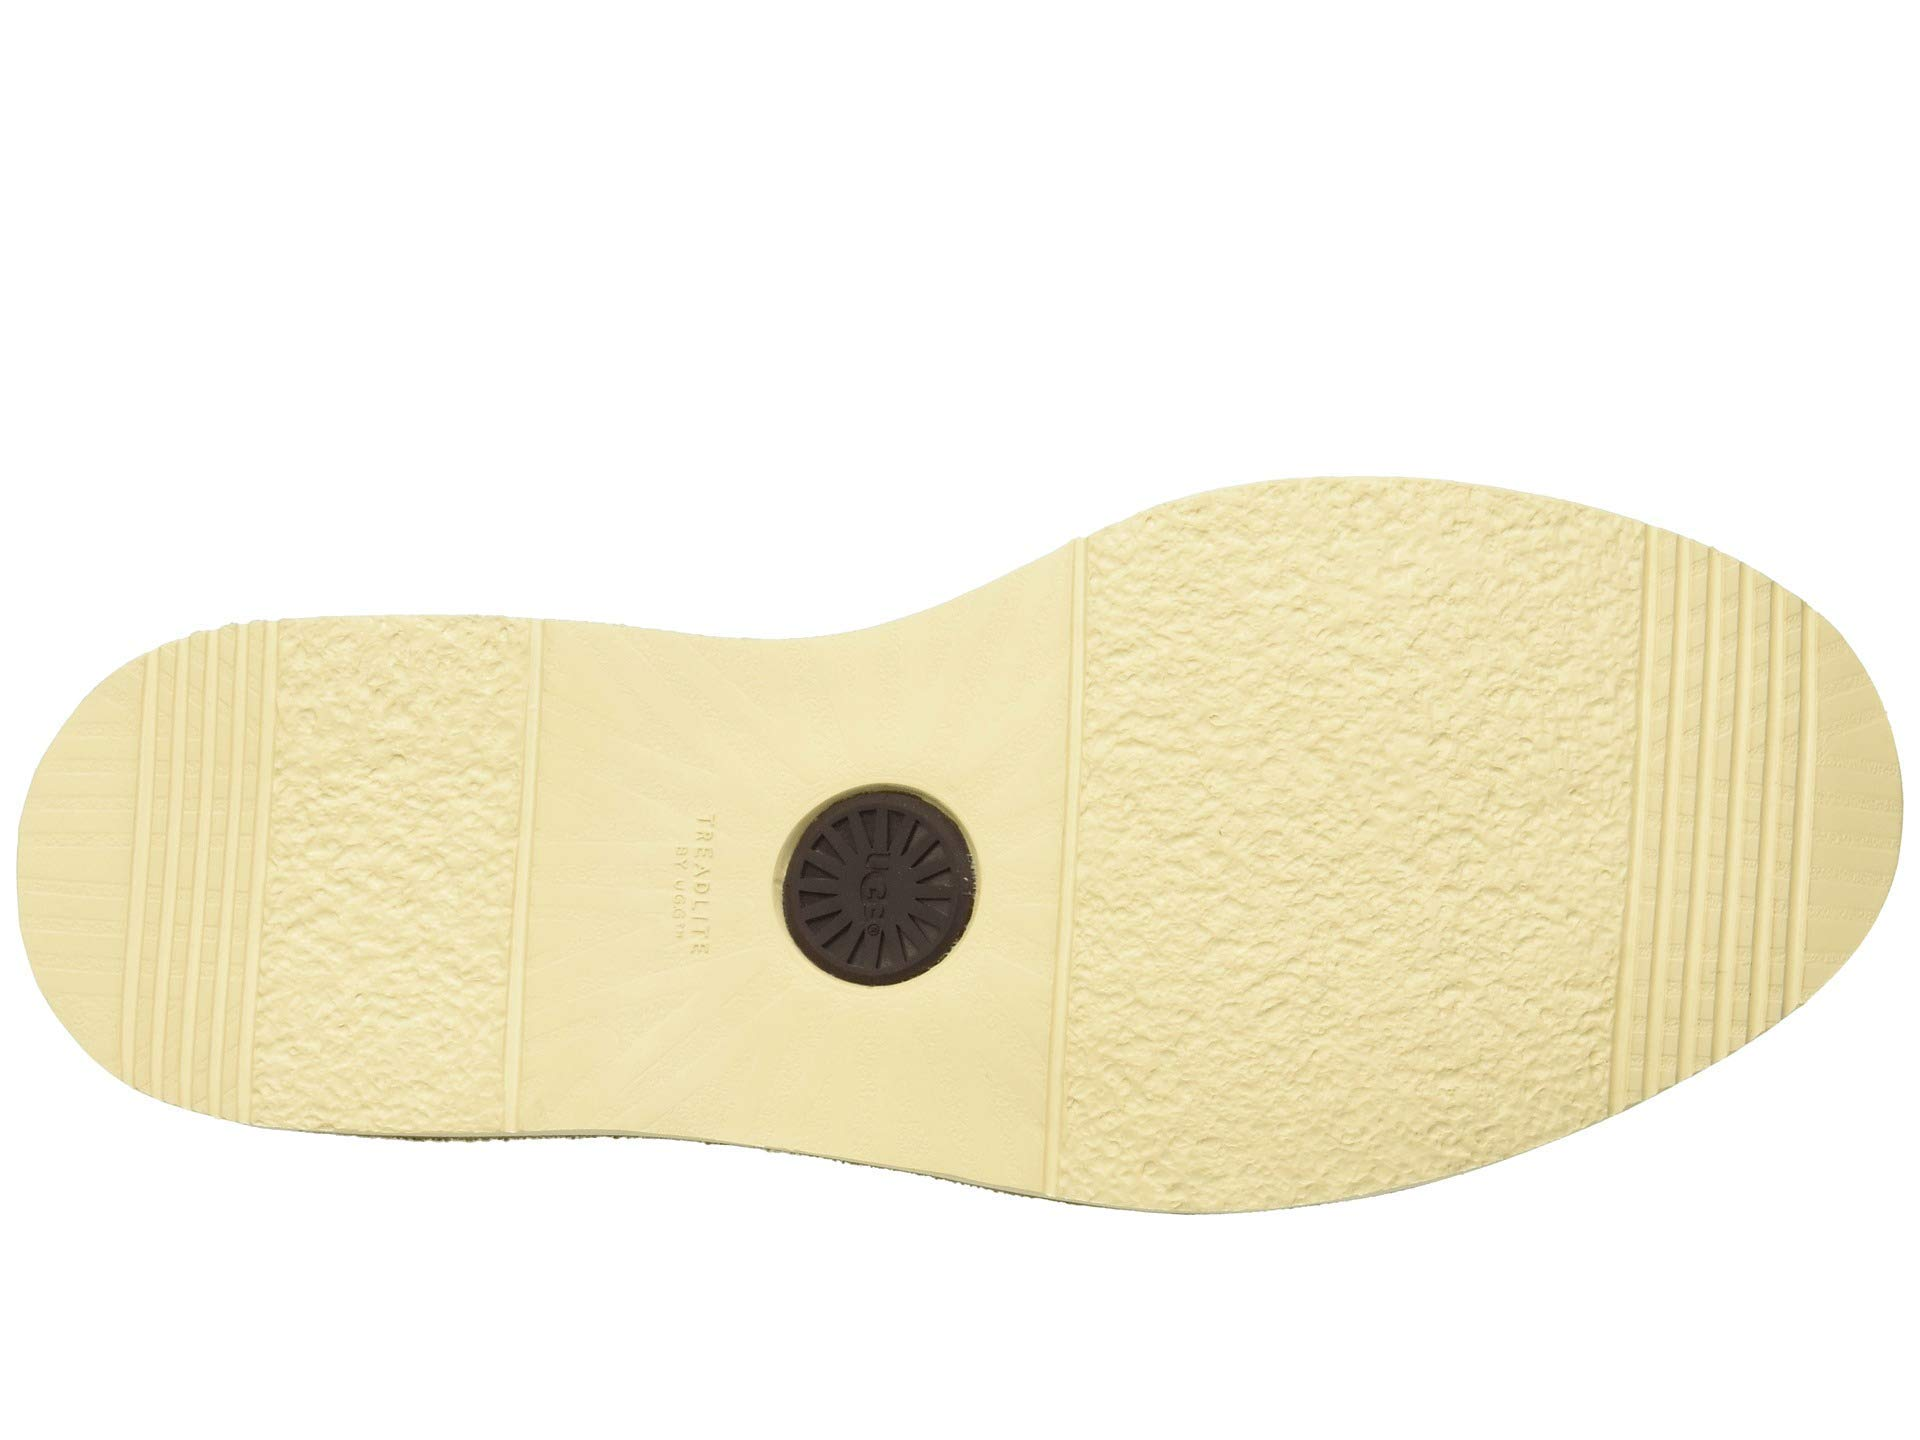circle: (732, 722, 1030, 1029)
line: (85, 735, 330, 945), (1615, 656, 1832, 864)
star: (732, 722, 1030, 1029)
text: (732, 722, 1030, 1029)
triangle: (732, 722, 1030, 1029)
